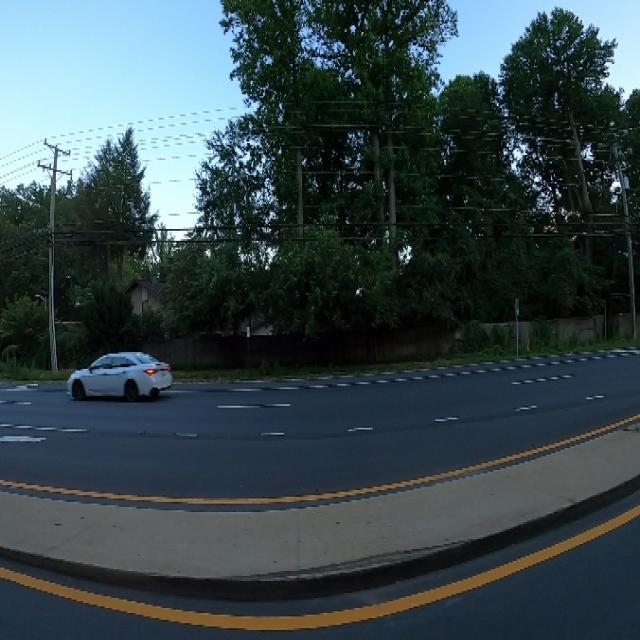car: (59, 339, 176, 409)
